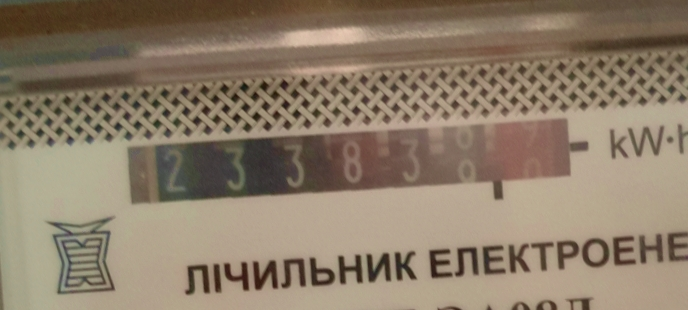0: (520, 151, 547, 178)
2: (159, 143, 190, 193)
3: (220, 140, 251, 192), (282, 138, 309, 190), (397, 132, 425, 182)
8: (339, 135, 366, 182), (451, 121, 480, 150)
9: (452, 152, 481, 183), (517, 116, 544, 146)
screen: (114, 101, 591, 226)
